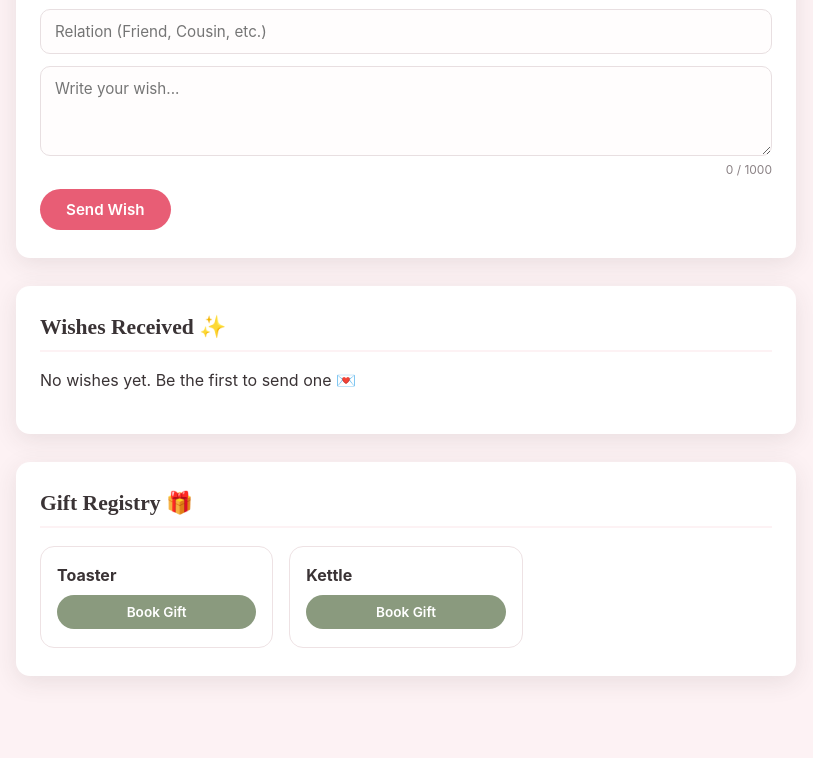
Test case: booking a gift someone else already took shows the message and marks it booked
This screenshot has width=813, height=758.
(page scrolled)
Click the button "Book Gift" below "Toaster". click: click(157, 612)
box: [57,595,256,629]
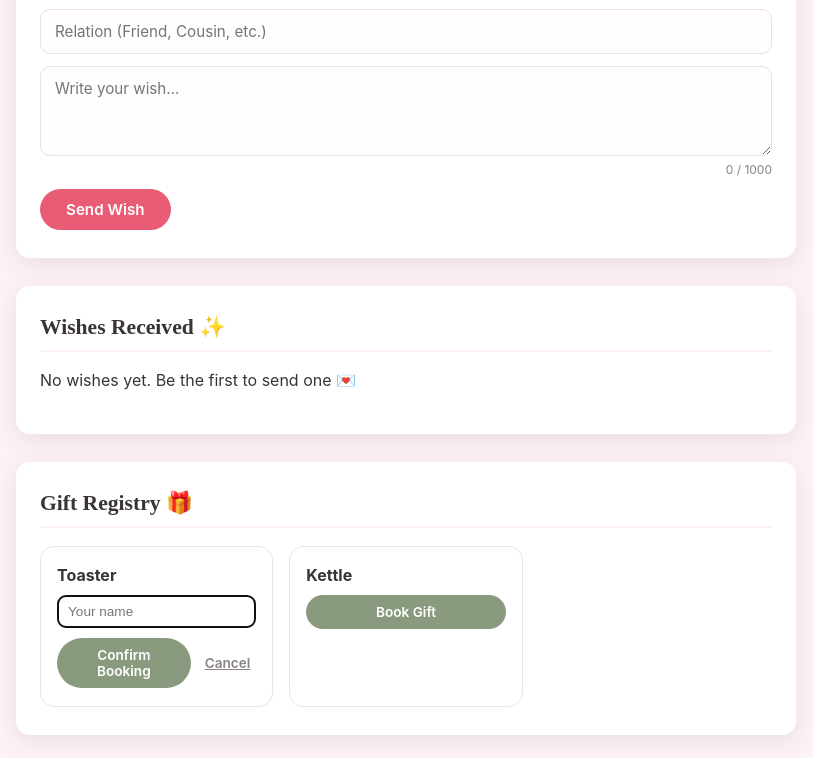
Type "Sam" into the field with placeholder "Your name". click: (157, 612)
box: [57,595,256,628]
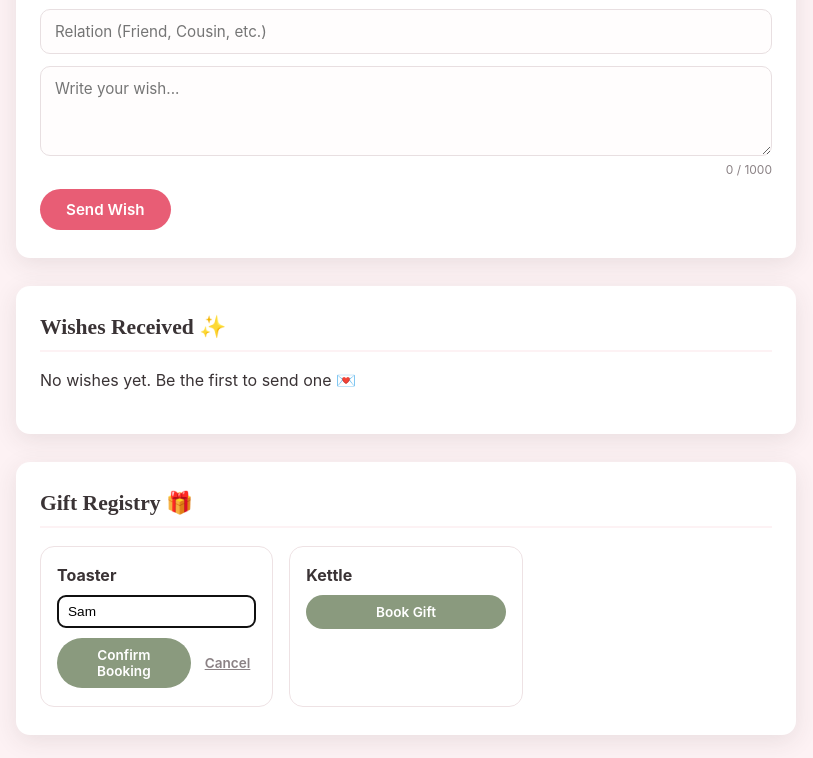
Click the button "Confirm Booking". click: click(124, 663)
box: [57,638,191,688]
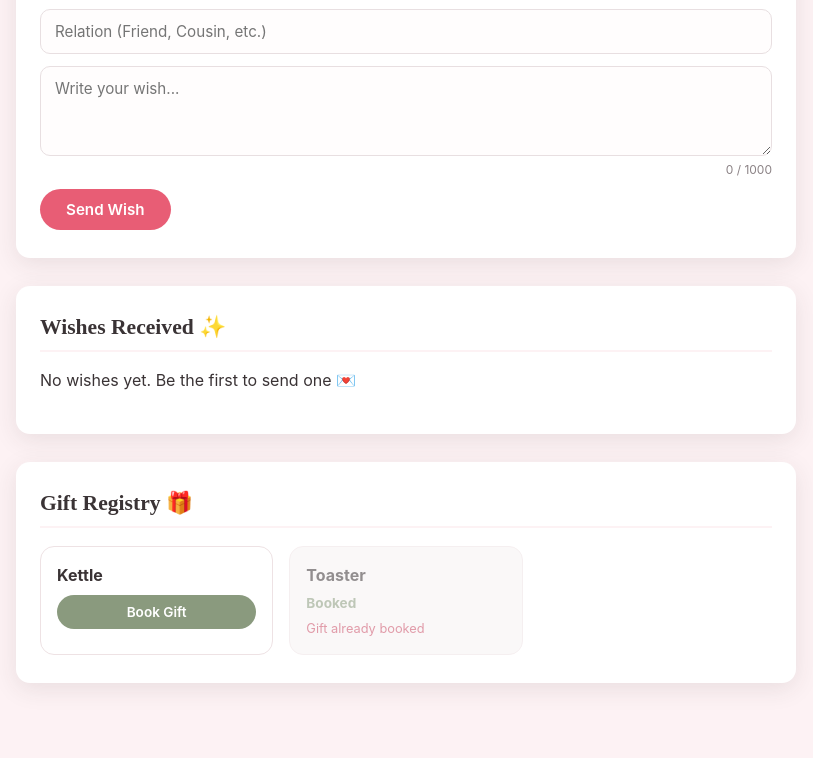
Expected: the heading "Toaster" is shown, [306,565,366,585]
Expected: the text "Gift already booked" is shown, [306,621,425,636]
Expected: the text "Booked" is shown once, [306,595,356,611]
